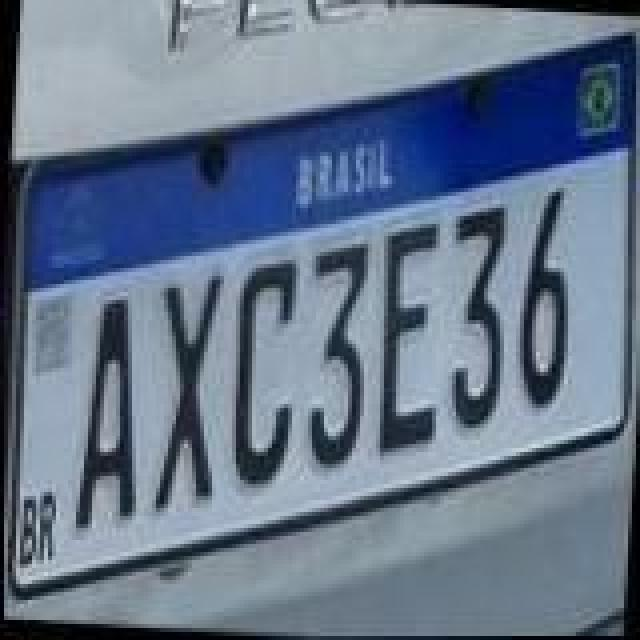3: (298, 236, 378, 480), (438, 196, 518, 440)
6: (510, 184, 582, 416)
A: (64, 292, 148, 540)
C: (224, 252, 308, 496)
E: (368, 218, 452, 466)
X: (144, 268, 228, 520)
